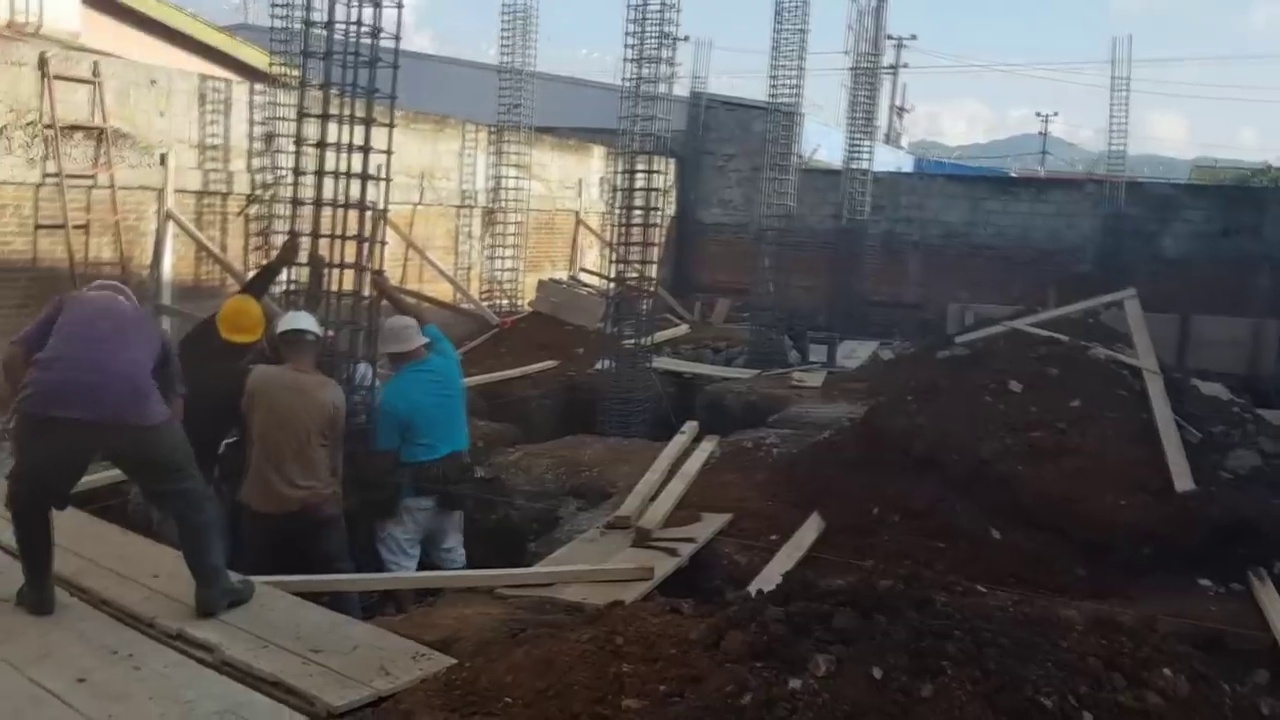helmet: (217, 292, 265, 344), (271, 304, 324, 340)
helmet-off: (374, 314, 431, 370)
helmet-on: (271, 304, 325, 373)
person: (7, 276, 248, 619), (365, 285, 470, 592), (236, 305, 343, 582), (180, 287, 261, 474)
